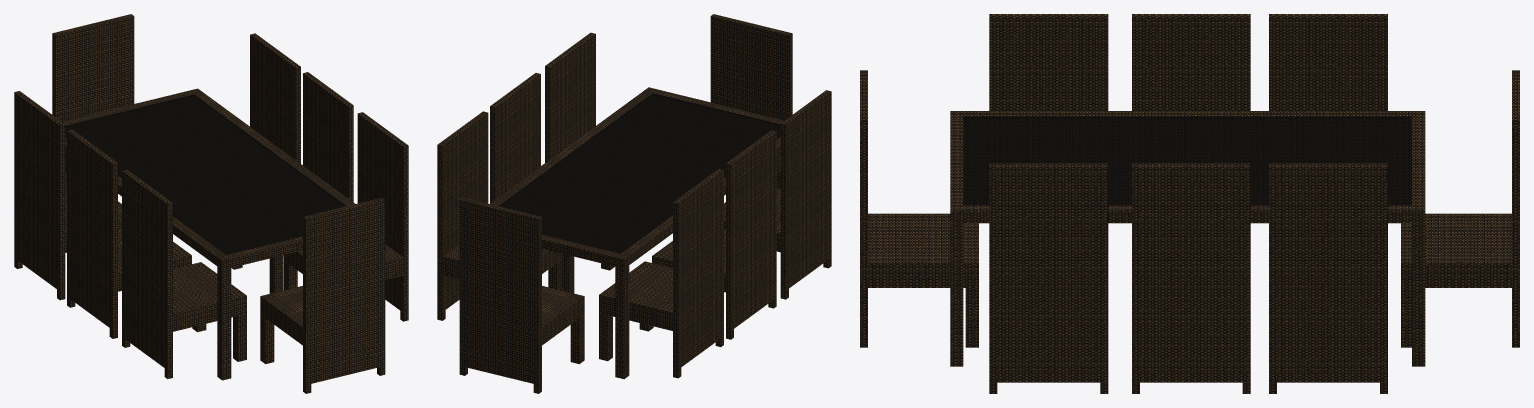
The model's file is dining furniture 3.dae.
The picture shows the model from 3 angles, left to right: view 1: azimuth 30°, elevation 25°; view 2: azimuth 150°, elevation 25°; view 3: azimuth 270°, elevation 25°; orthographic projection. The views are drawn at different scales.
Visible parts, largest first — view 1: group_6 (×2), group_7, group_5, group_0, group_9, group_4, group_3, group_8, group_2, group_1; view 2: group_6 (×2), group_7, group_3, group_4, group_9, group_0, group_5, group_1, group_2, group_8; view 3: group_6 (×2), group_8, group_2, group_1, group_7, group_0, group_4, group_9, group_5, group_3.
Part boxes in pixels (x1,y1,x2,y2): group_6 (×2): [62, 88, 354, 380]; group_7: [65, 94, 346, 254]; group_5: [260, 197, 385, 393]; group_0: [122, 169, 246, 378]; group_9: [67, 129, 191, 338]; group_4: [14, 91, 121, 300]; group_3: [52, 14, 134, 189]; group_8: [283, 112, 408, 321]; group_2: [232, 72, 353, 293]; group_1: [250, 33, 300, 163]; group_6 (×2): [490, 87, 784, 379]; group_7: [498, 93, 780, 253]; group_3: [459, 197, 584, 393]; group_4: [599, 169, 723, 378]; group_9: [652, 130, 776, 339]; group_0: [724, 90, 831, 299]; group_5: [710, 14, 792, 189]; group_1: [437, 111, 562, 320]; group_2: [490, 73, 614, 293]; group_8: [545, 32, 595, 162]; group_6 (×2): [950, 111, 1425, 366]; group_8: [989, 163, 1108, 393]; group_2: [1132, 163, 1250, 393]; group_1: [1269, 163, 1387, 393]; group_7: [963, 116, 1411, 205]; group_0: [989, 14, 1108, 110]; group_4: [1269, 14, 1387, 110]; group_9: [1132, 14, 1250, 110]; group_5: [860, 70, 978, 347]; group_3: [1401, 70, 1519, 347].
Bounding box in the file's own units: 53.94 × 98.43 × 37.4.
3 materials, 1 textured.
